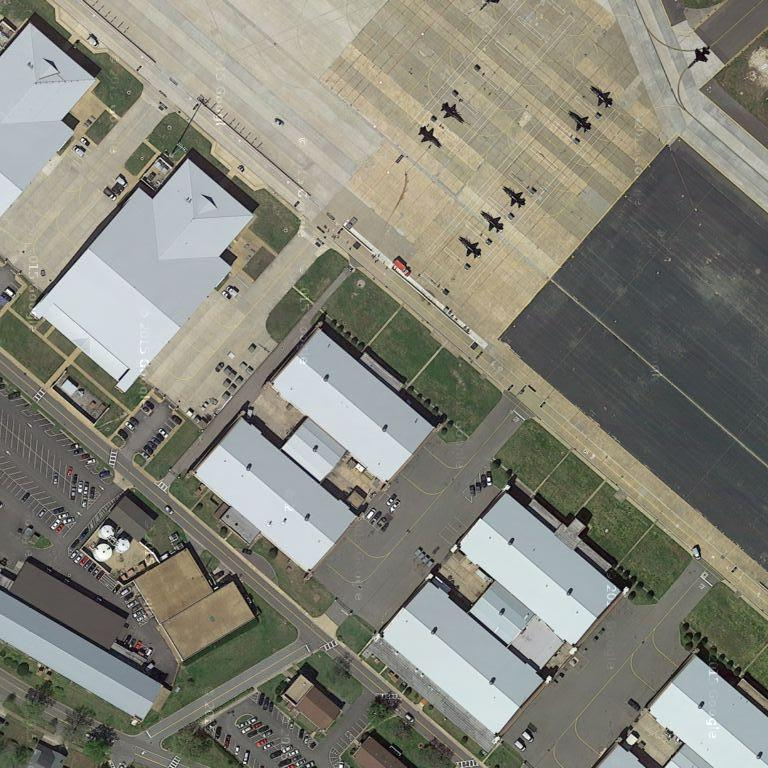plane: (585, 82, 617, 112), (414, 120, 445, 150), (564, 108, 596, 137), (455, 233, 486, 262), (436, 96, 468, 124), (686, 42, 714, 70), (500, 183, 530, 209), (478, 209, 507, 234)
